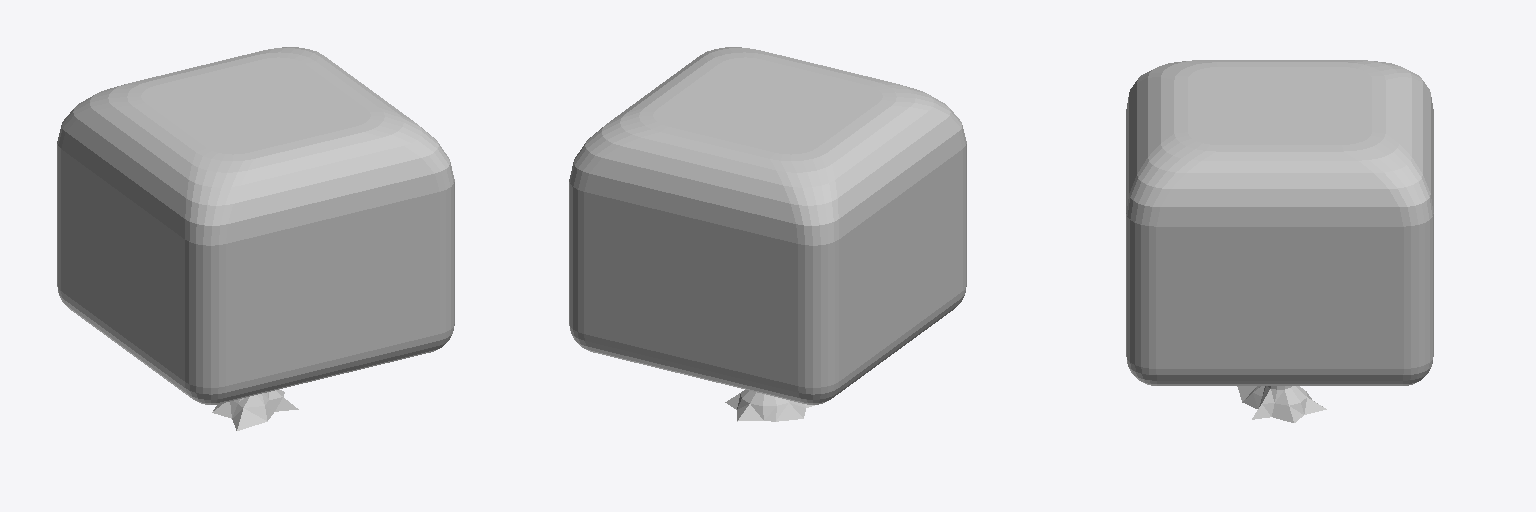
File: BushWall.obj
3 renders of one model, left to right at view 1: azimuth 30°, elevation 25°; view 2: azimuth 150°, elevation 25°; view 3: azimuth 270°, elevation 25°, orthographic.
Visible parts, largest first — view 1: polySurface1; view 2: polySurface1; view 3: polySurface1.
Part boxes in pixels (x1,y1,x2,y2): polySurface1: (57, 47, 454, 430); polySurface1: (569, 47, 966, 421); polySurface1: (1126, 60, 1433, 422).
Bounding box in the file's own units: 19.94 × 21.48 × 19.94.